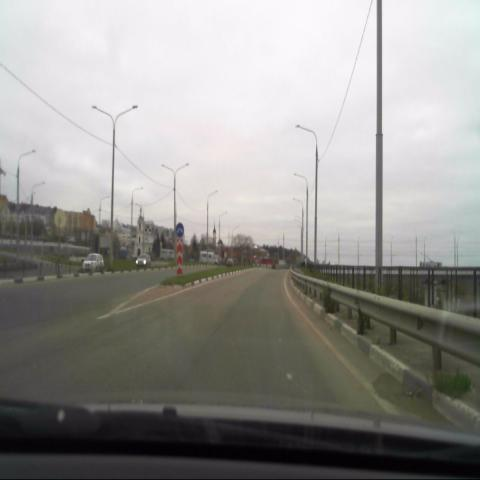4_2_3: (175, 221, 185, 238)
